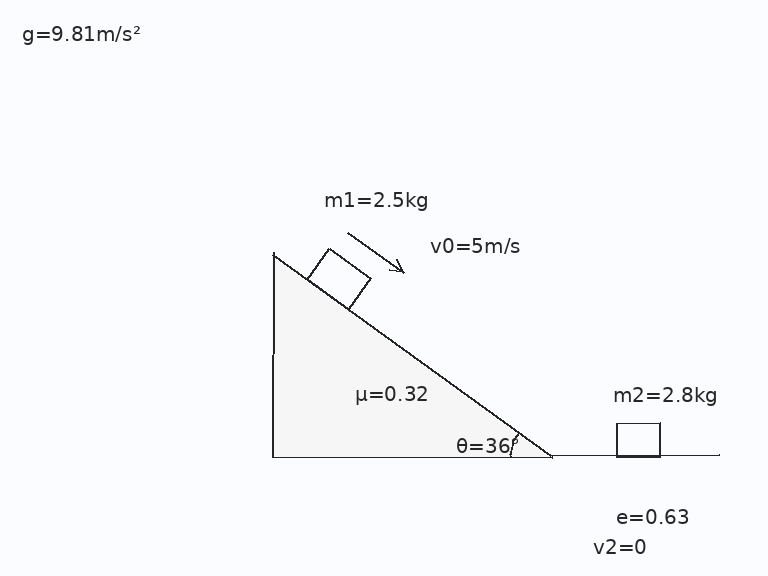block: (305, 246, 372, 311), (614, 422, 662, 458)
ramp: (271, 252, 553, 458)
